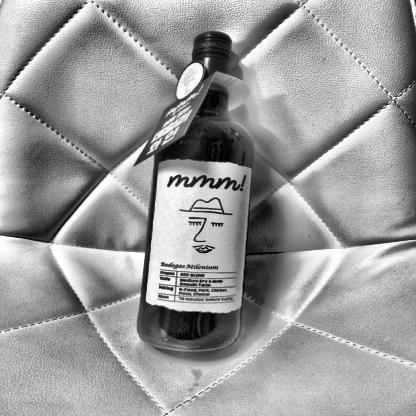umm: (147, 159, 250, 313)
